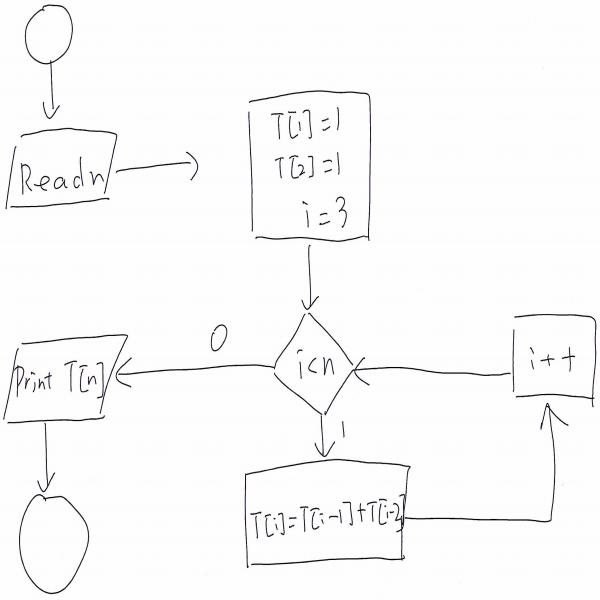arrow: (414, 394, 564, 576), (357, 354, 510, 403), (114, 360, 273, 387), (116, 156, 203, 189), (38, 430, 59, 494)
decision: (272, 312, 355, 416)
process: (245, 463, 410, 564), (510, 317, 596, 404)
terminator: (18, 493, 87, 596), (24, 4, 73, 64)
text: (248, 88, 373, 241), (262, 109, 353, 223), (249, 486, 402, 538), (19, 363, 105, 405), (23, 160, 103, 196), (524, 336, 577, 377), (294, 342, 340, 384), (204, 322, 230, 346)
